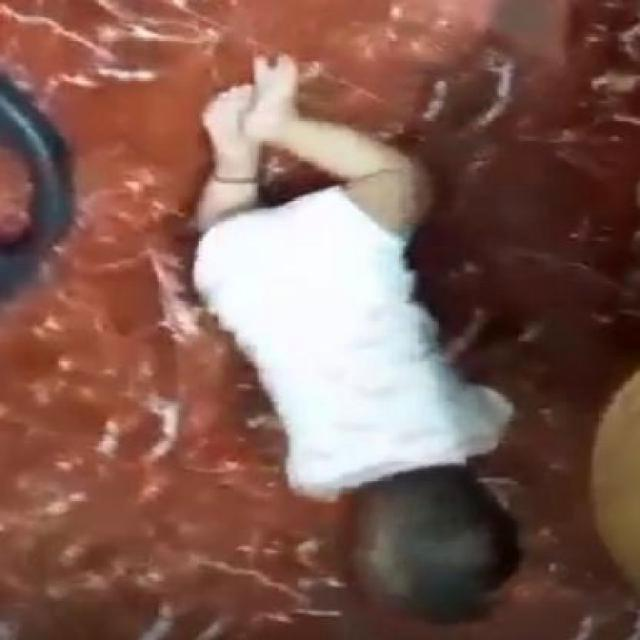child: (194, 59, 523, 627)
